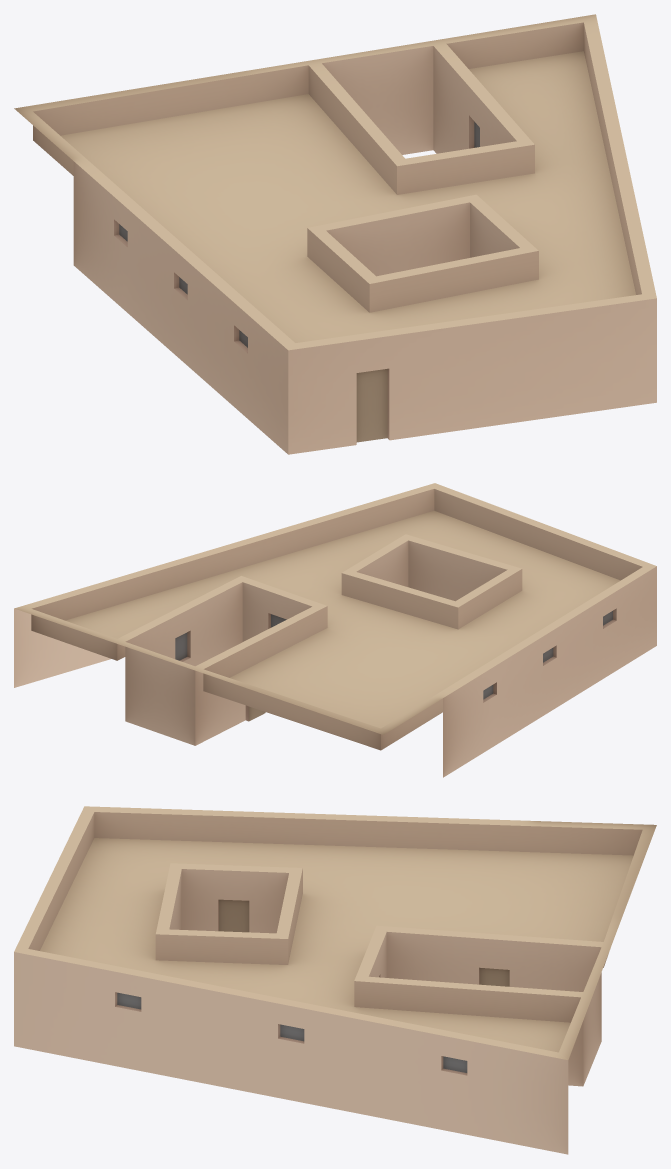
3 renders of one model, top to bottom at view 1: azimuth 30°, elevation 25°; view 2: azimuth 150°, elevation 25°; view 3: azimuth 270°, elevation 25°, orthographic. The views are drawn at different scales.
Parts seen in each view (by area): view 1: atturaifworldheritagesite70030076209992995; view 2: atturaifworldheritagesite70030076209992995; view 3: atturaifworldheritagesite70030076209992995.
Boxes of the visible parts, bbox=[...] form: atturaifworldheritagesite70030076209992995: bbox=[14, 14, 656, 454]; atturaifworldheritagesite70030076209992995: bbox=[14, 483, 656, 777]; atturaifworldheritagesite70030076209992995: bbox=[14, 806, 656, 1154].
Size of the model in its own units: 16.73 by 2.9 by 17.9.
1 material, 1 textured.
